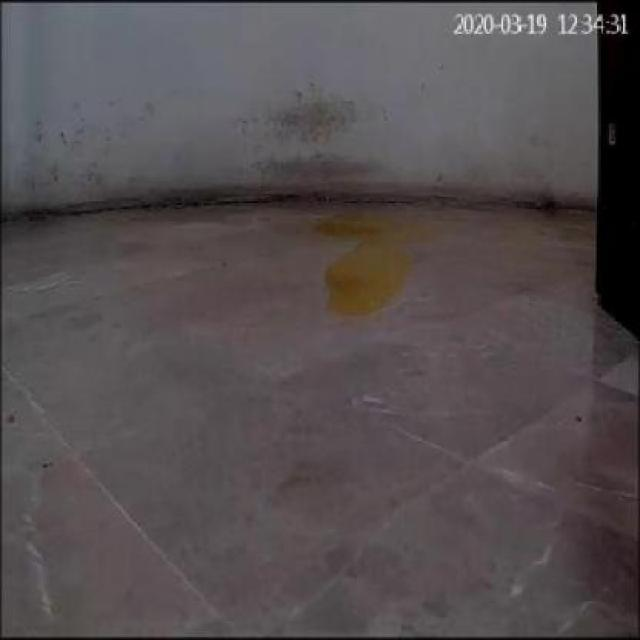spillage: (321, 223, 415, 320)
